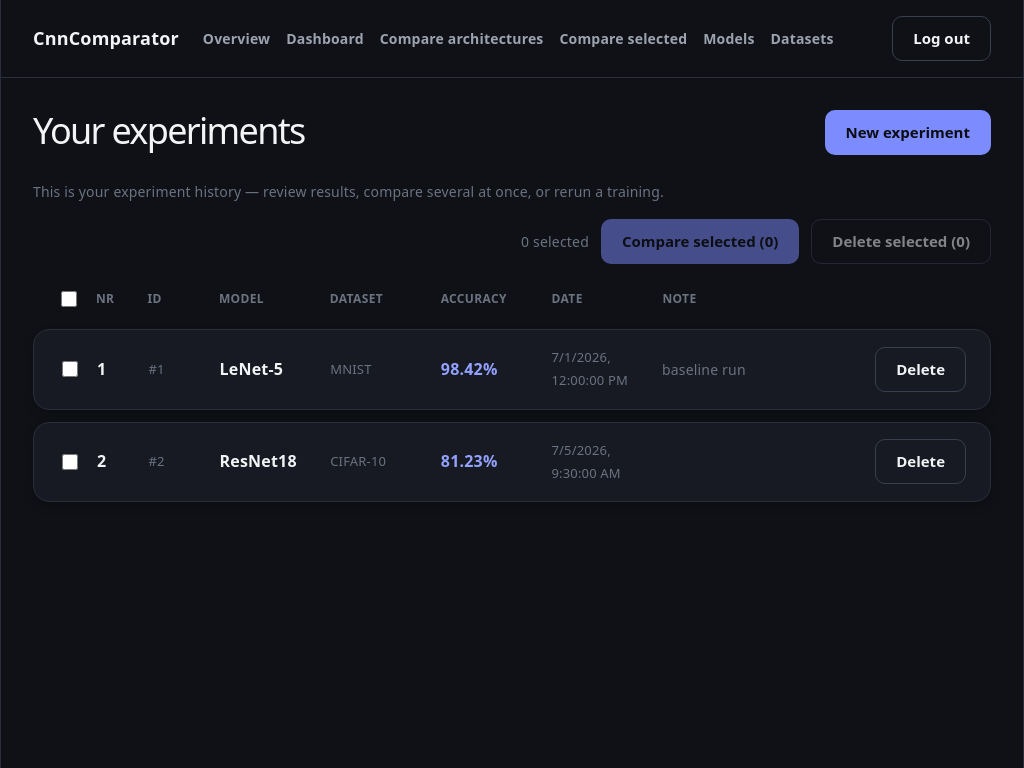
Test case: dashboard › deletes an experiment from the list
This screenshot has width=1024, height=768.
Click the button "Delete" in the row of "LeNet-5": (921, 370) [875,347,966,392]
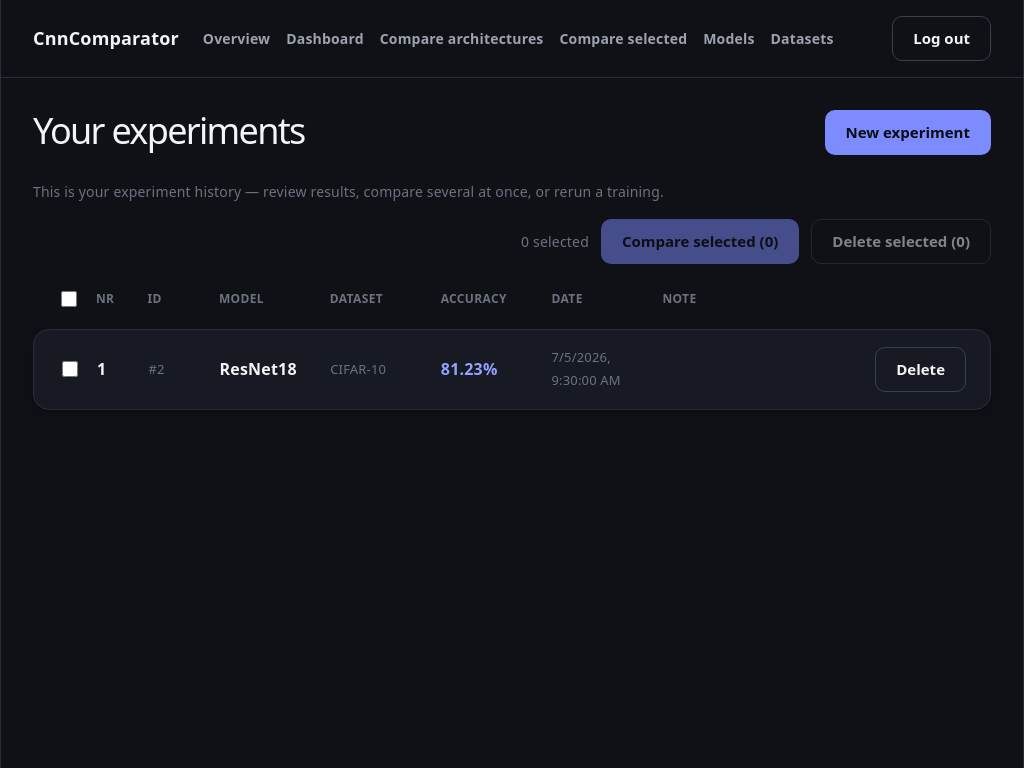
expect the list item "ResNet18" is shown: met, box [220,358,297,380]
expect the link "LeNet-5" is gone: met
